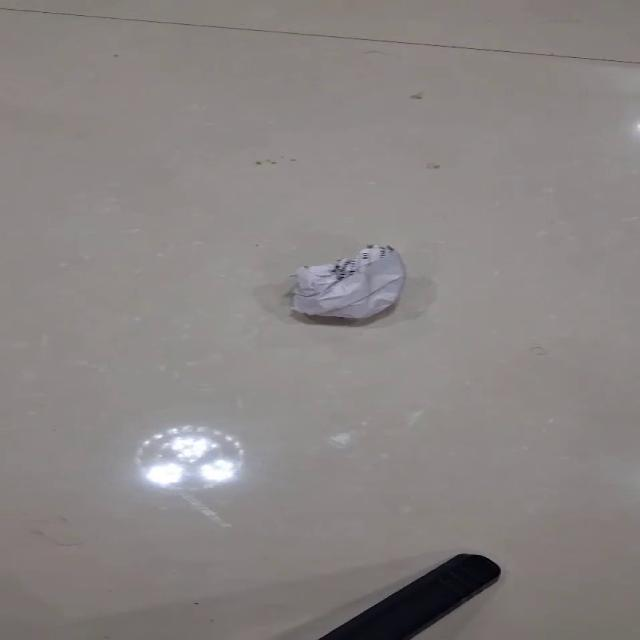paper: (286, 243, 406, 320)
